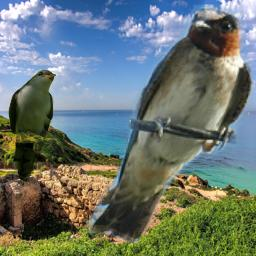Cuckoo: (8, 69, 56, 181)
Swallow: (85, 4, 254, 244)
